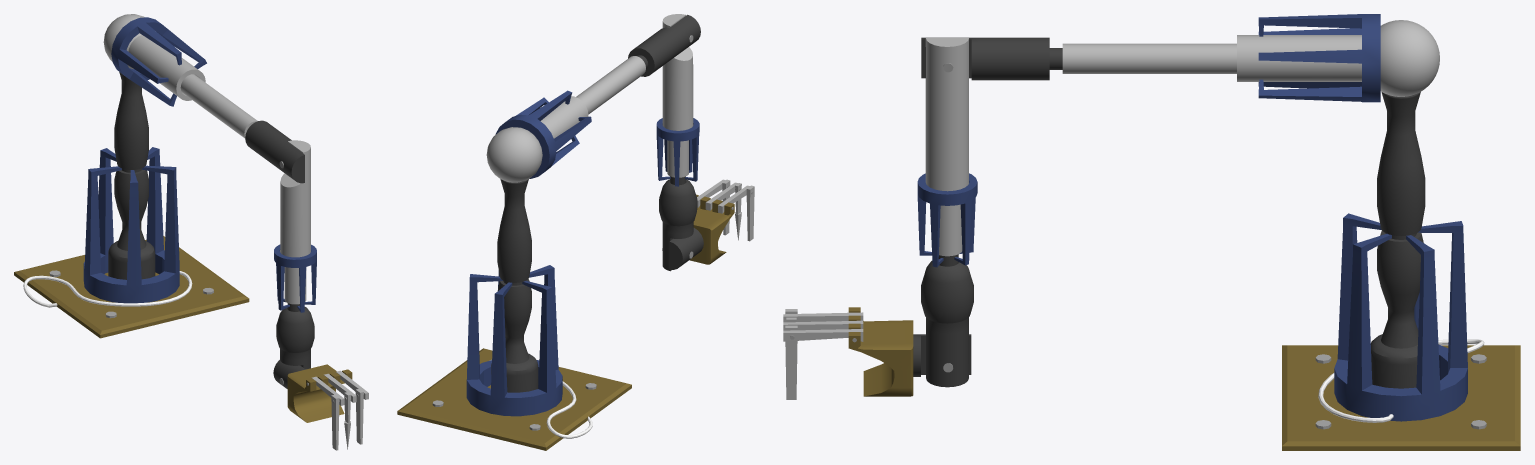
The model's file is RobotArm.obj.
3 views of the same model, side by side, from view 1: azimuth 30°, elevation 25°; view 2: azimuth 150°, elevation 25°; view 3: azimuth 270°, elevation 25° (orthographic). The views are drawn at different scales.
Visible parts, largest first — view 1: pCylinder2 pCylinder39 pCylinder40, GeoBase, pCylinder23, pCylinder3, pCylinder4, pCube1, pCylinder34 polySurface5, pCylinder20, pCylinder35, pCylinder34 polySurface3, GeoRightFingerLow GeoRightFingerLow1 GeoRightFingerLow2, pCylinder41 (+4 smaller); view 2: pCylinder2 pCylinder39 pCylinder40, GeoBase, pCylinder4, pCylinder3, pCylinder23, GeoJointBall, pCylinder20, pCylinder34 polySurface5, pCube1, pCylinder34 polySurface3, pCylinder35, pCylinder17 (+4 smaller); view 3: pCylinder2 pCylinder39 pCylinder40, GeoBase, pCylinder23, pCylinder3, pCylinder4, pCylinder20, pCylinder34 polySurface3, pCylinder35, pCube1, GeoJointBall, pCylinder34 polySurface5, GeoRightFingerUp GeoRightFingerUp3 GeoRightFingerUp4 (+3 smaller).
Part boxes in pixels (x1,y1,x2,y2): pCylinder2 pCylinder39 pCylinder40: (83, 17, 316, 312); GeoBase: (14, 236, 249, 338); pCylinder23: (280, 140, 310, 257); pCylinder3: (108, 169, 155, 279); pCylinder4: (114, 72, 148, 169); pCube1: (287, 364, 352, 422); pCylinder34 polySurface5: (245, 120, 304, 183); pCylinder20: (276, 307, 314, 368); pCylinder35: (128, 35, 205, 100); pCylinder34 polySurface3: (180, 74, 257, 138); GeoRightFingerLow GeoRightFingerLow1 GeoRightFingerLow2: (331, 388, 363, 450); pCylinder41: (23, 271, 192, 307); pCylinder2 pCylinder39 pCylinder40: (466, 90, 699, 416); GeoBase: (397, 348, 631, 450); pCylinder4: (497, 179, 531, 282); pCylinder3: (491, 279, 538, 392); pCylinder23: (662, 14, 693, 130); GeoJointBall: (486, 127, 542, 182); pCylinder20: (659, 179, 697, 271); pCylinder34 polySurface5: (628, 14, 700, 76); pCube1: (689, 194, 734, 264); pCylinder34 polySurface3: (576, 56, 645, 114); pCylinder35: (540, 96, 588, 138); pCylinder17: (669, 228, 703, 269); pCylinder2 pCylinder39 pCylinder40: (917, 14, 1467, 421); GeoBase: (1282, 345, 1520, 450); pCylinder23: (925, 38, 968, 191); pCylinder3: (1370, 230, 1423, 388); pCylinder4: (1377, 92, 1425, 235); pCylinder20: (921, 261, 973, 387); pCylinder34 polySurface3: (1062, 43, 1236, 73); pCylinder35: (1237, 35, 1361, 81); pCube1: (848, 307, 913, 396); GeoJointBall: (1380, 20, 1439, 96); pCylinder34 polySurface5: (921, 37, 1049, 80); GeoRightFingerUp GeoRightFingerUp3 GeoRightFingerUp4: (783, 312, 863, 341).
Size of the model in its own units: 6.63 by 10.92 by 18.96.
